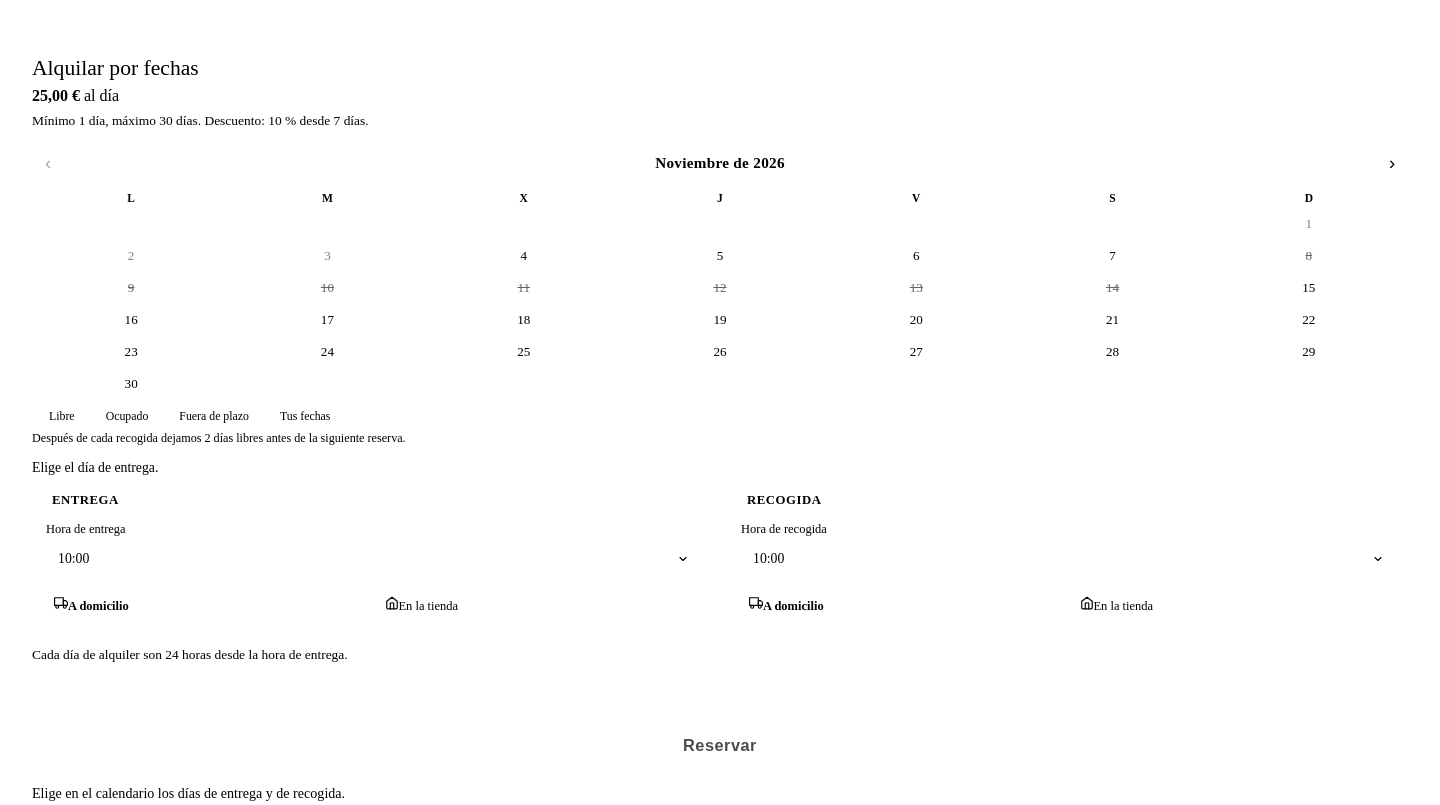
Scenario: PanelReserva — precio en vivo › al empezar otra selección desaparece el desglose
The width and height of the screenshot is (1440, 805).
Click the button named "miércoles, 4 de noviembre de 2026".
click(524, 256)  # box [427, 241, 621, 271]
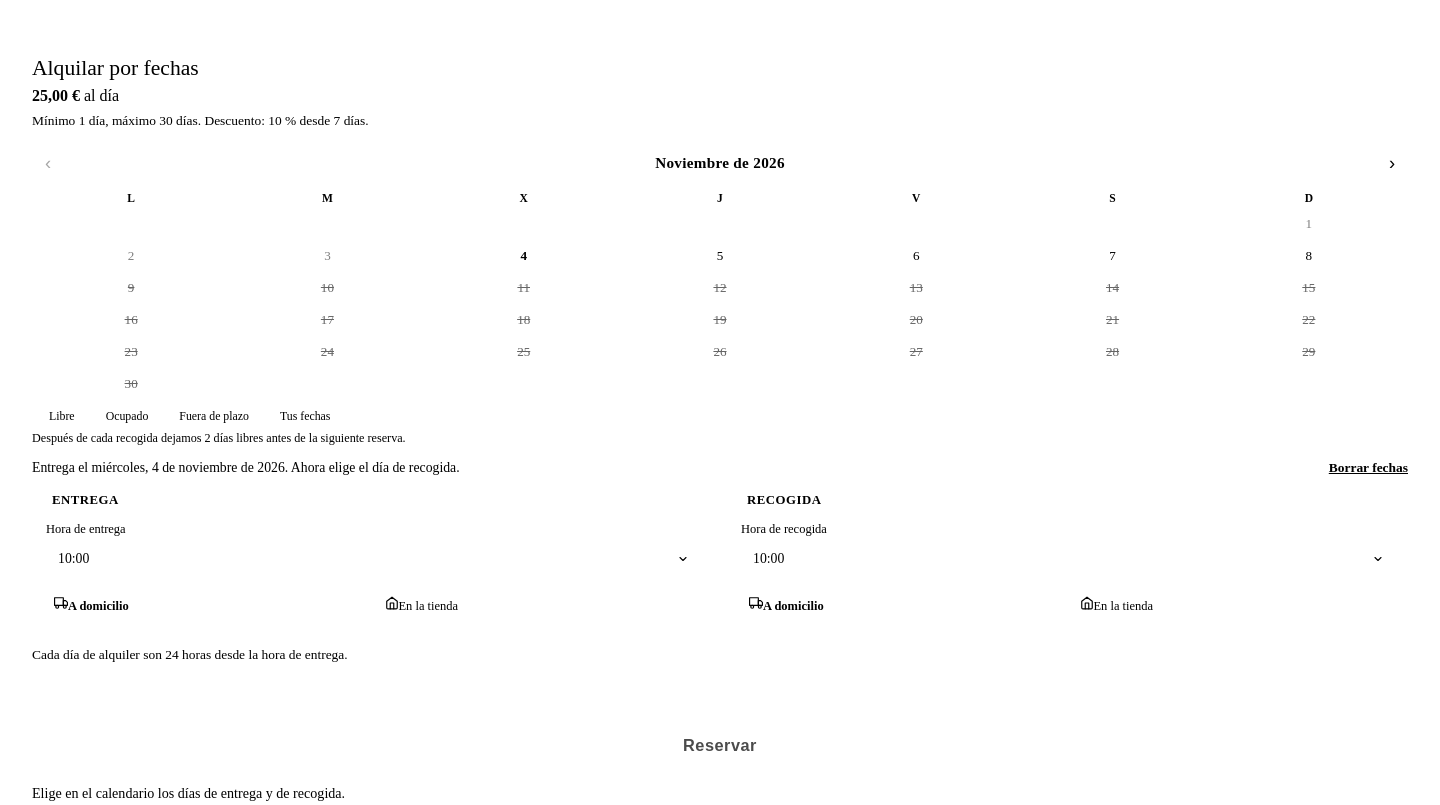
Click the button named "sábado, 7 de noviembre de 2026".
click(1113, 256)  # box [1015, 241, 1210, 271]
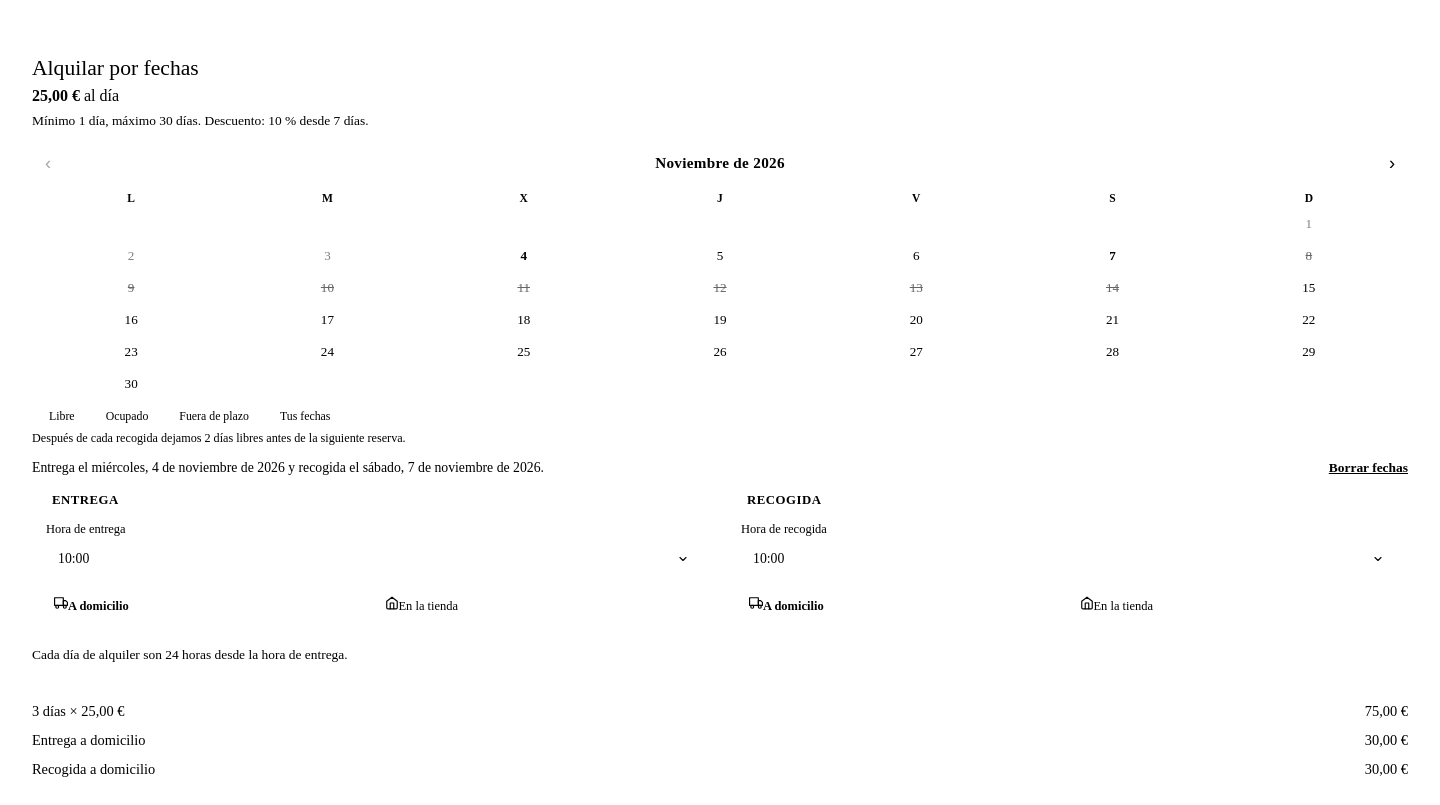
Click the button named "domingo, 15 de noviembre de 2026".
click(1309, 288)  # box [1212, 273, 1406, 303]
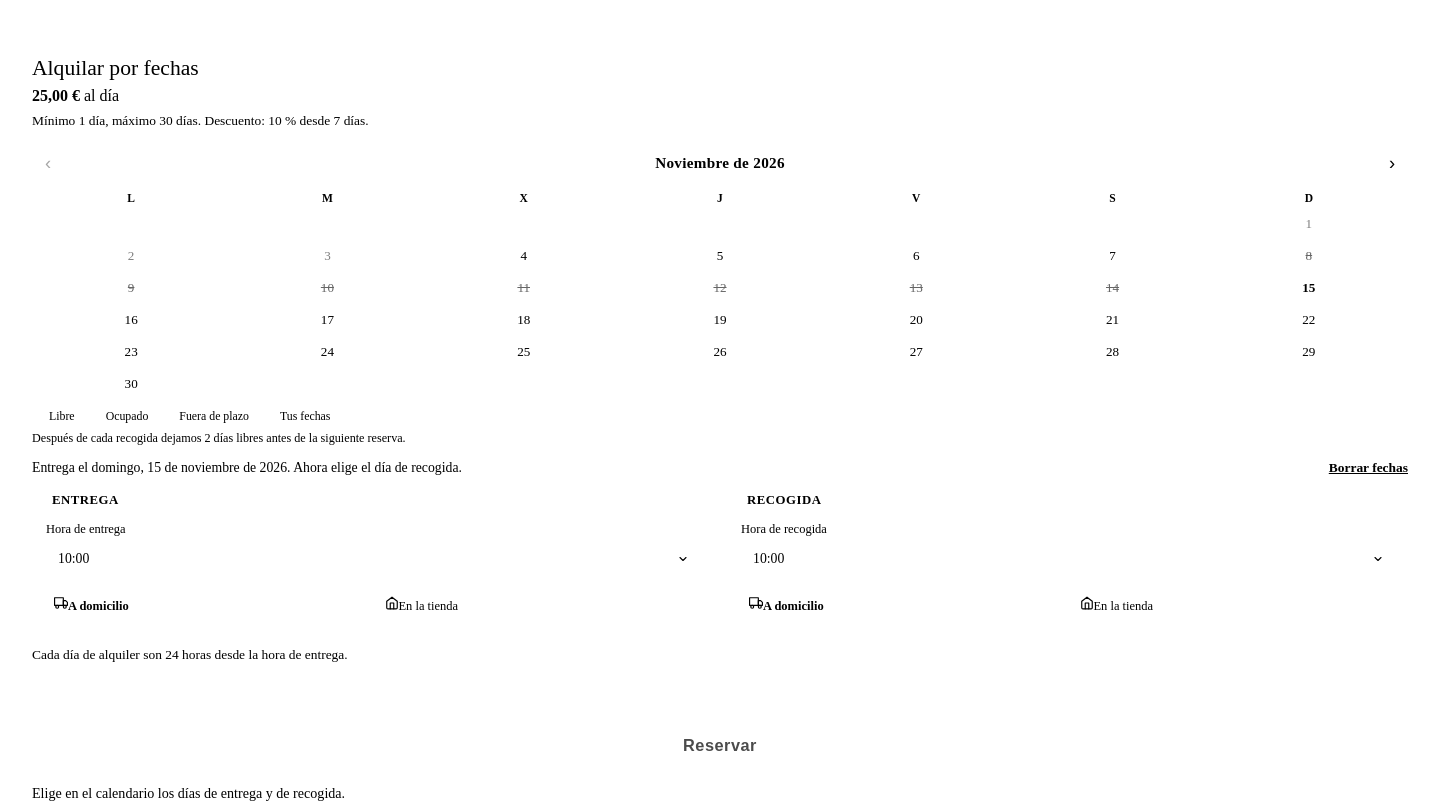
Expected: the button "Reservar" is disabled, [32, 717, 1408, 773]
